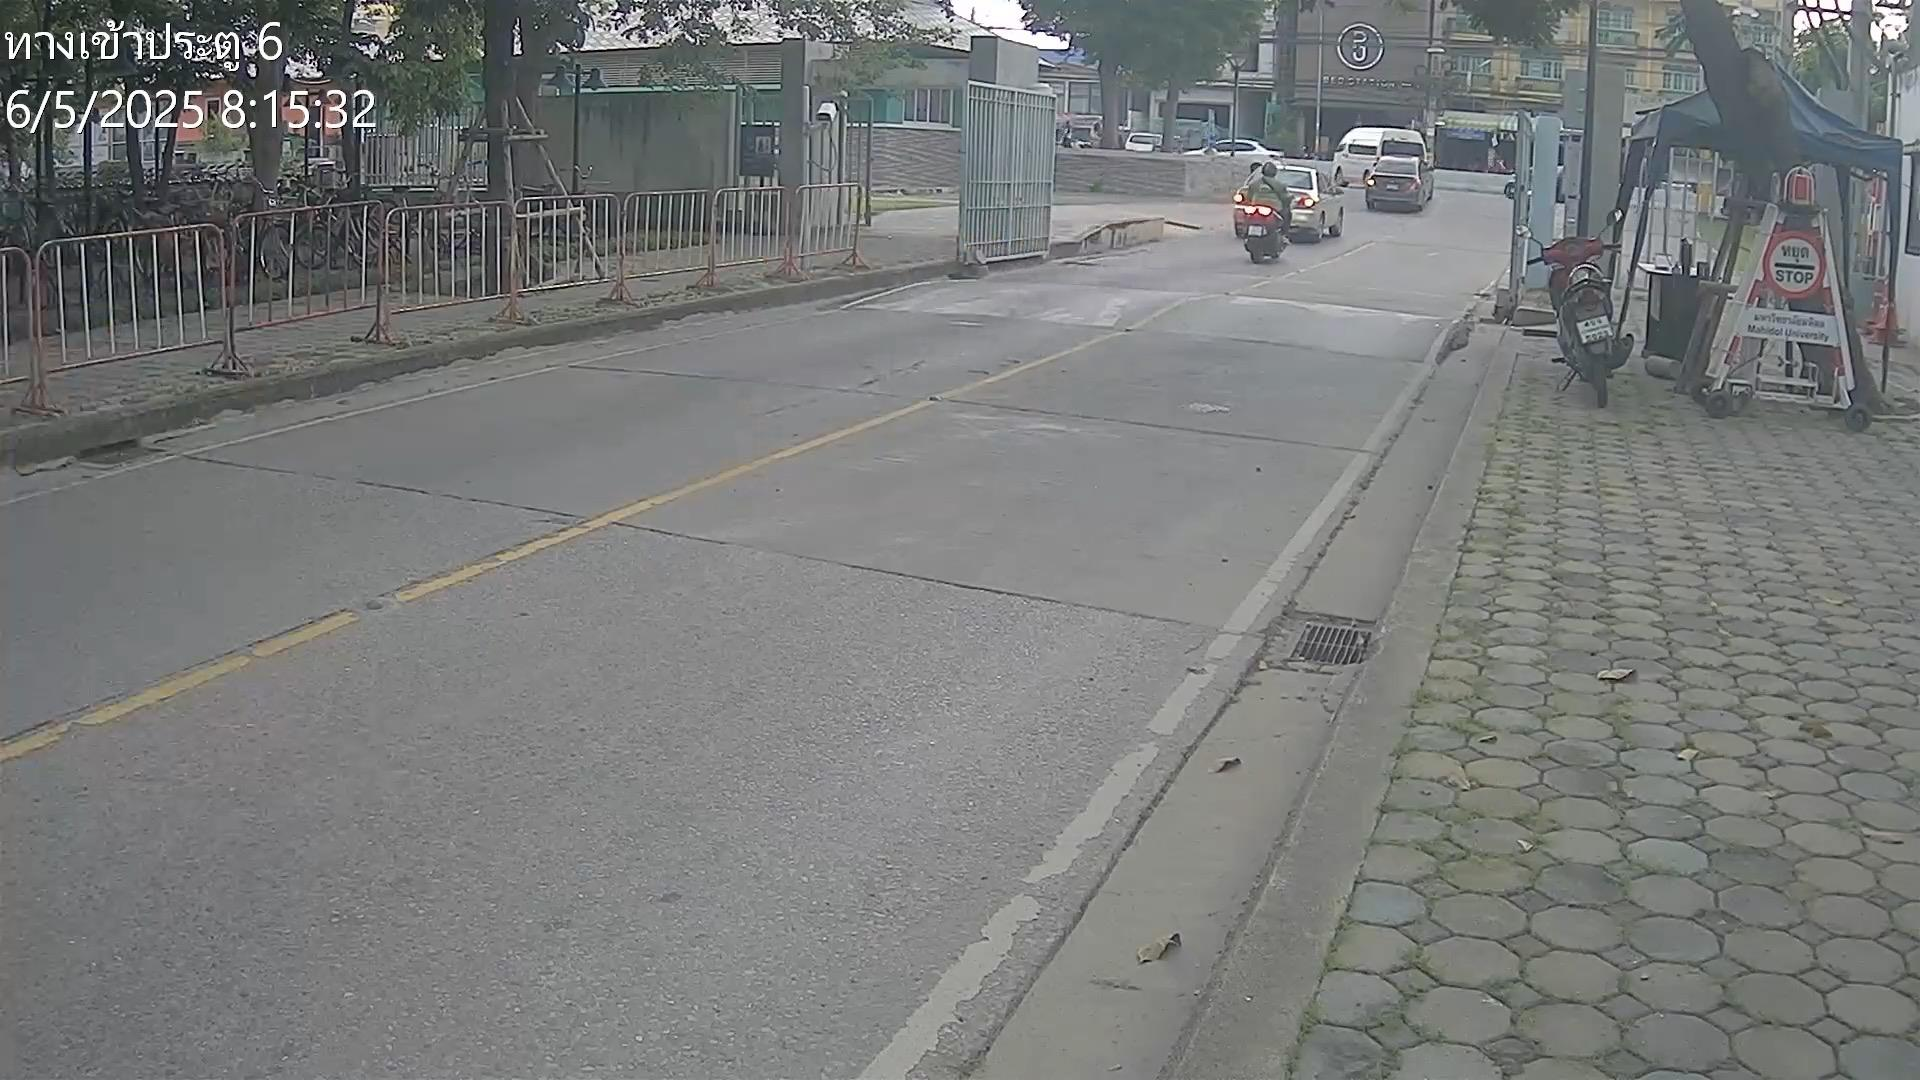With-Helmet: (1262, 161, 1276, 178)
